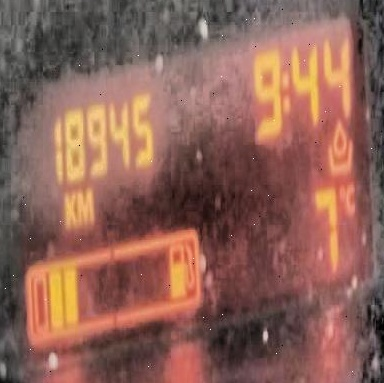1: (50, 108, 63, 184)
4: (291, 37, 320, 127), (323, 30, 352, 116), (106, 90, 129, 171)
5: (133, 85, 154, 165)
7: (312, 180, 338, 275)
8: (63, 106, 84, 183)
9: (250, 43, 280, 146), (86, 100, 106, 180)
X: (75, 186, 93, 226), (62, 186, 75, 228), (279, 63, 288, 121), (344, 181, 355, 218)
